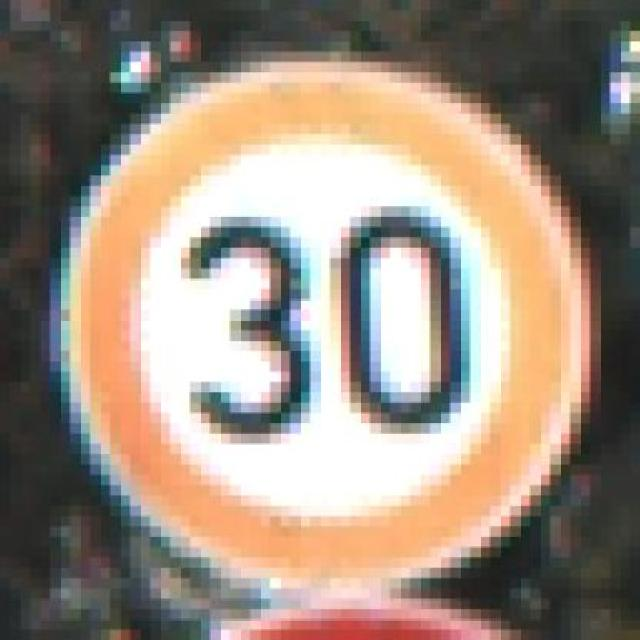Speed Limit 30 KMPh: (40, 51, 600, 588)
